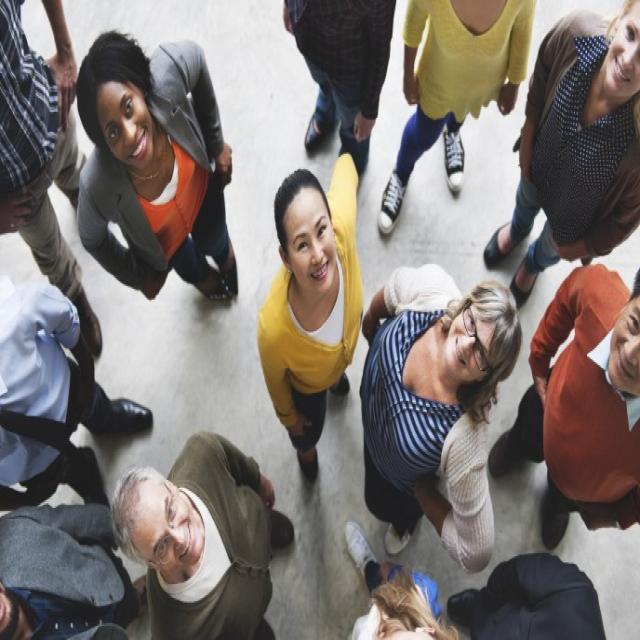adult: (364, 260, 522, 576), (481, 2, 640, 305), (76, 29, 242, 306), (489, 255, 638, 553), (110, 426, 295, 640), (375, 0, 535, 239), (250, 147, 362, 480), (0, 0, 102, 359), (0, 277, 152, 506), (259, 0, 397, 171), (0, 502, 144, 640)
